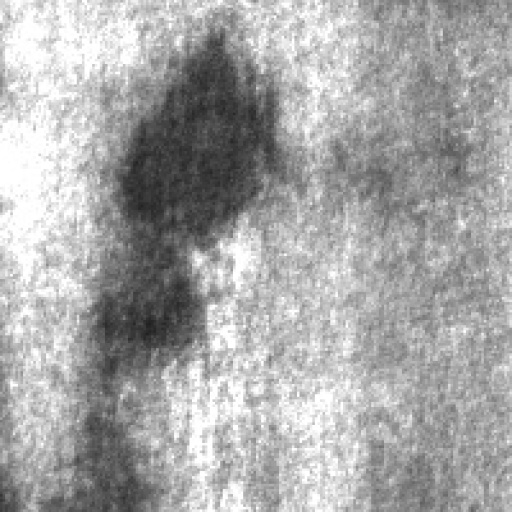patches: (86, 15, 294, 240), (52, 241, 214, 389), (34, 390, 180, 512)
